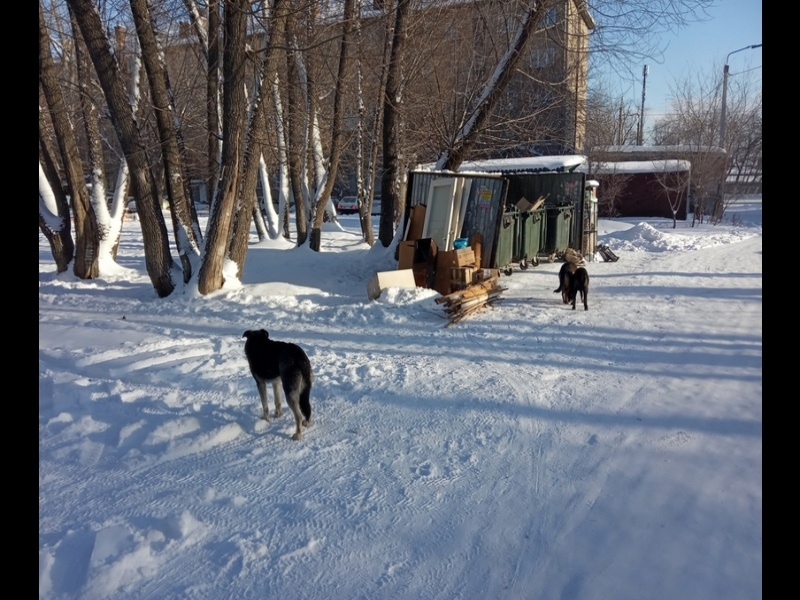dog: (239, 324, 316, 444), (551, 261, 582, 304), (568, 269, 596, 312)
